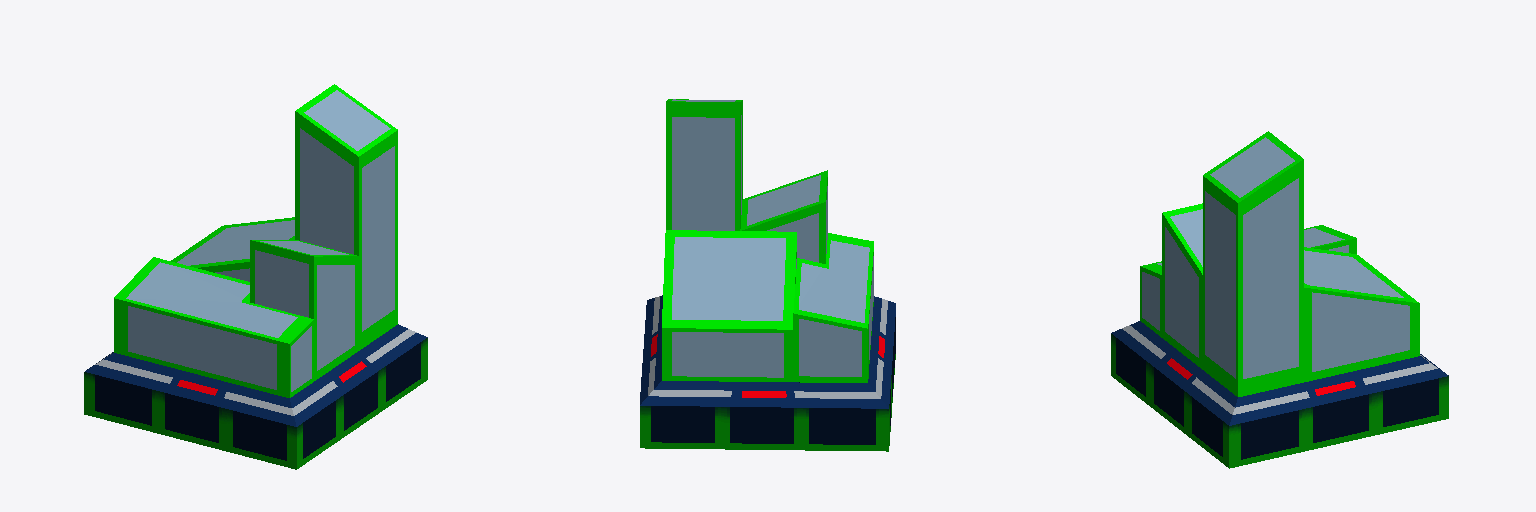
3 views of the same model, side by side, from view 1: azimuth 30°, elevation 25°; view 2: azimuth 150°, elevation 25°; view 3: azimuth 270°, elevation 25° (orthographic).
Bounding box in the file's own units: 4.87 × 4.48 × 4.87.
Materials: 1 (1 with a texture image).